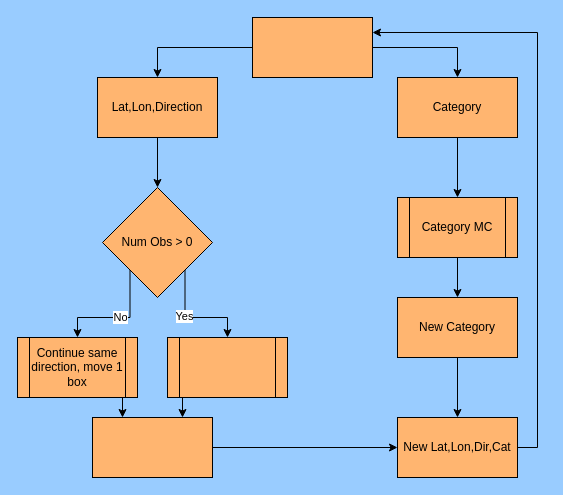
Some shapes in this 563 by 495 pixel diagram are drawn without their labels. Each missing label, with the box of its shape:
Lat,Lon,Dir,Cat: (252, 16, 372, 78)
New Lat,Lon,Dir: (92, 416, 212, 478)
Position MC: (166, 336, 288, 398)
